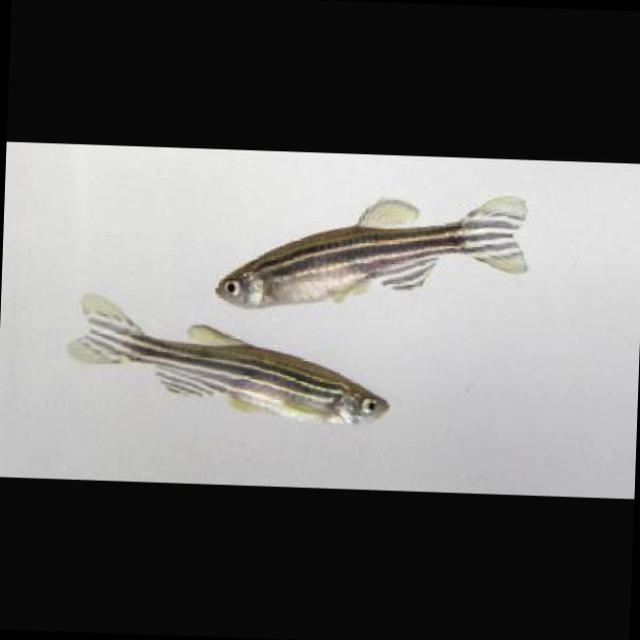ZebraFish: (64, 291, 391, 426), (212, 182, 532, 316)
